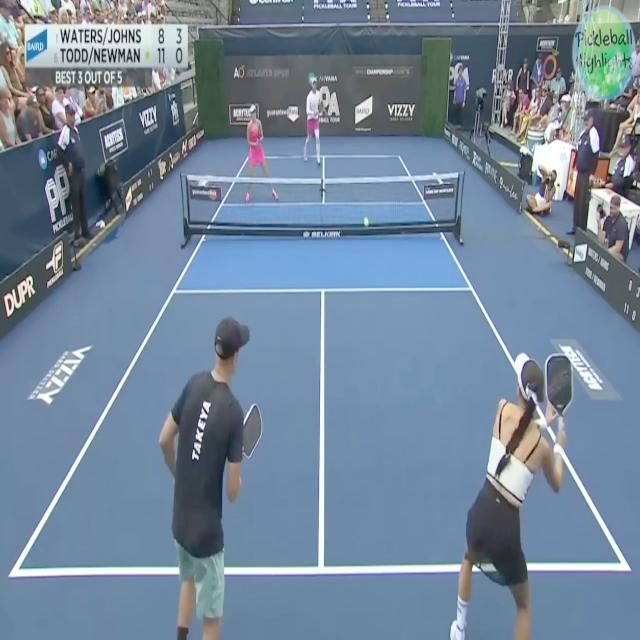Pickleball: (363, 214, 370, 230)
